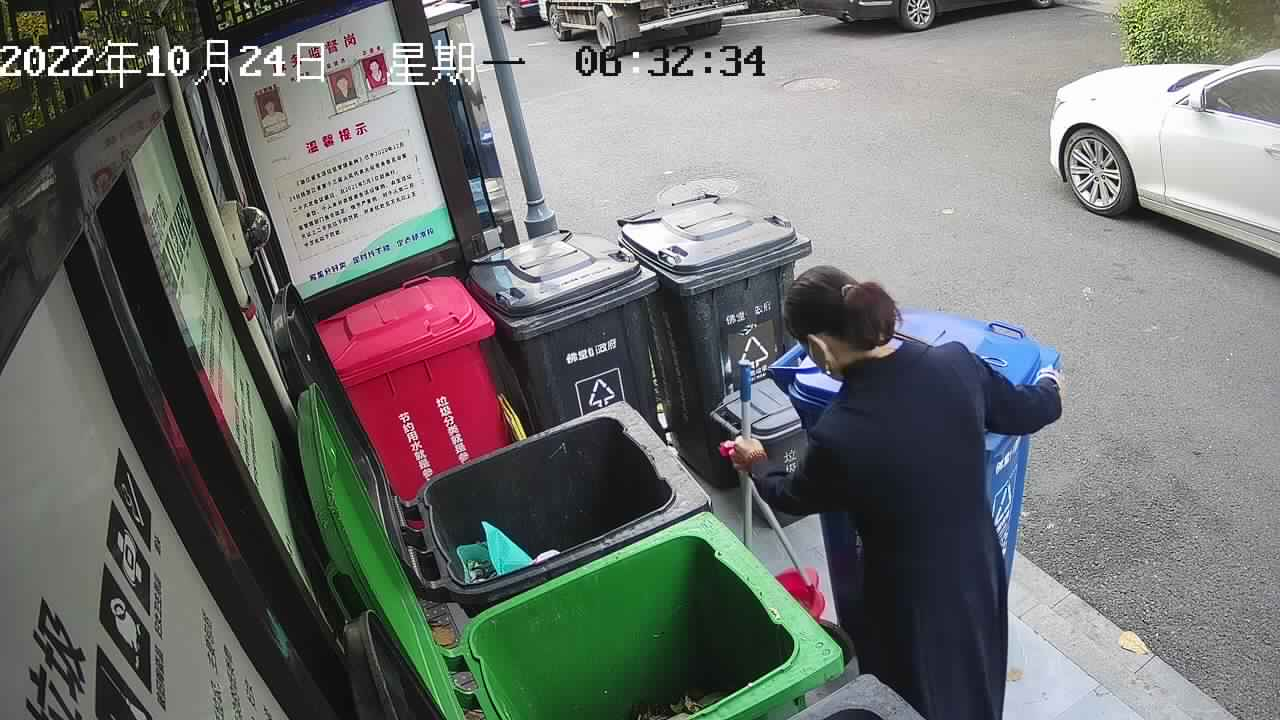worker: (722, 259, 1069, 720)
